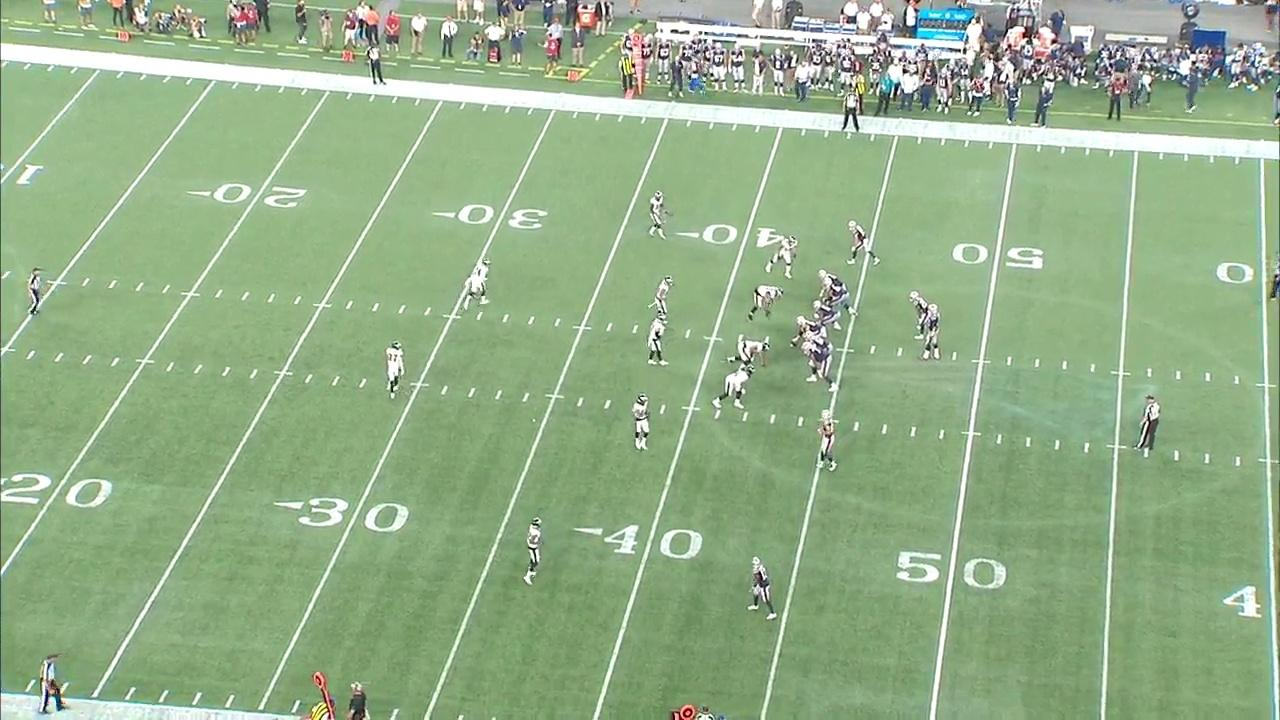defense: (711, 363, 756, 412), (763, 233, 802, 281), (461, 257, 494, 313), (520, 517, 545, 587), (647, 273, 676, 331), (747, 283, 786, 323), (645, 313, 672, 368), (725, 339, 771, 370), (384, 339, 406, 403), (648, 189, 672, 242), (632, 393, 653, 452)
oline: (801, 342, 839, 394), (822, 280, 859, 319), (811, 299, 842, 339), (790, 313, 824, 347), (803, 328, 834, 355)
qb: (917, 303, 943, 362)
ref: (37, 651, 70, 717), (1133, 394, 1165, 453), (364, 40, 389, 88), (26, 266, 48, 319), (841, 87, 860, 132), (1267, 250, 1280, 305)
skill: (745, 555, 778, 624), (845, 218, 882, 268), (813, 407, 839, 474), (908, 288, 930, 341), (817, 268, 847, 298)
